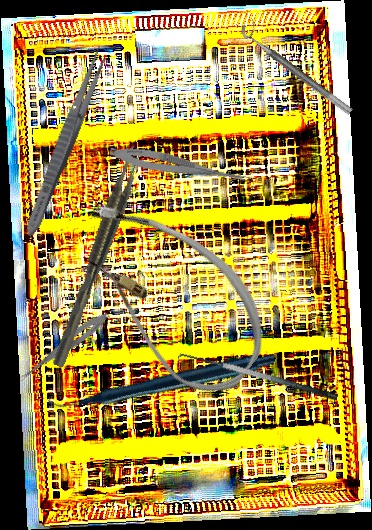Cannula: (43, 181, 292, 411)
Dressing Forceps: (19, 42, 113, 241)
Fixation Ring: (236, 16, 361, 116)
Handpiece: (46, 276, 278, 483)
Micro Scissor: (16, 307, 112, 388), (108, 142, 254, 188)
Spatula Surgical: (175, 345, 339, 415)
Tissue Forceps: (45, 143, 148, 369)
